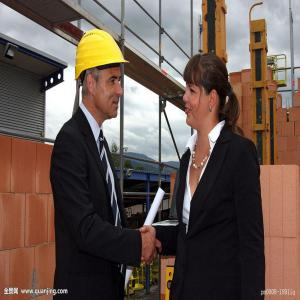none: (183, 53, 234, 137)
yellow: (75, 30, 127, 123)
